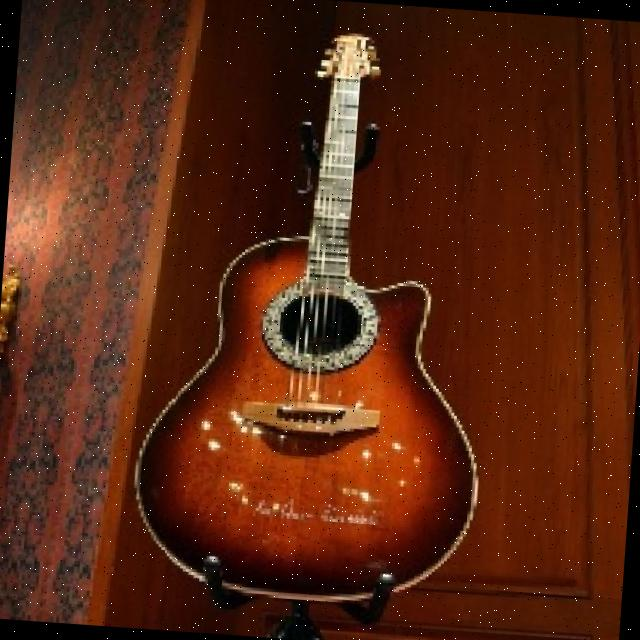guitar: (122, 14, 512, 626)
